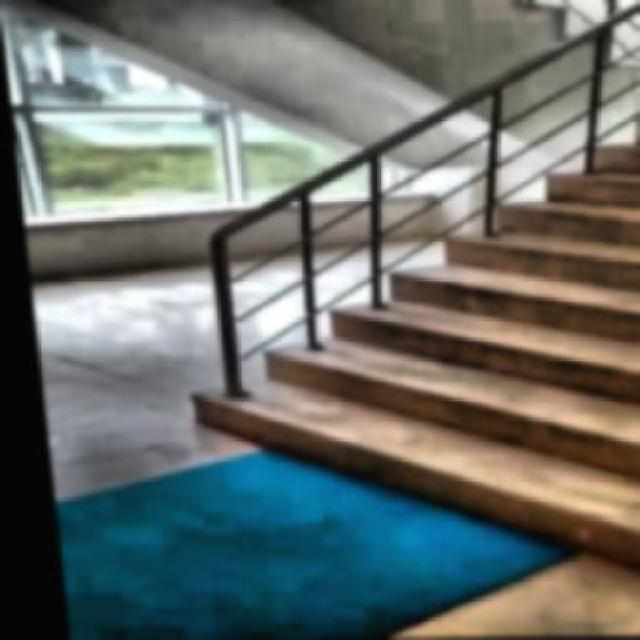stair: (127, 79, 638, 606)
